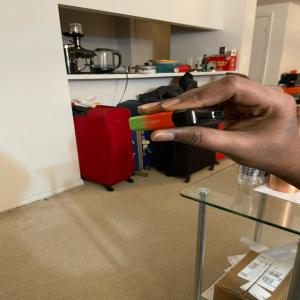Swift-E-Ciggirate: (124, 108, 228, 130)
